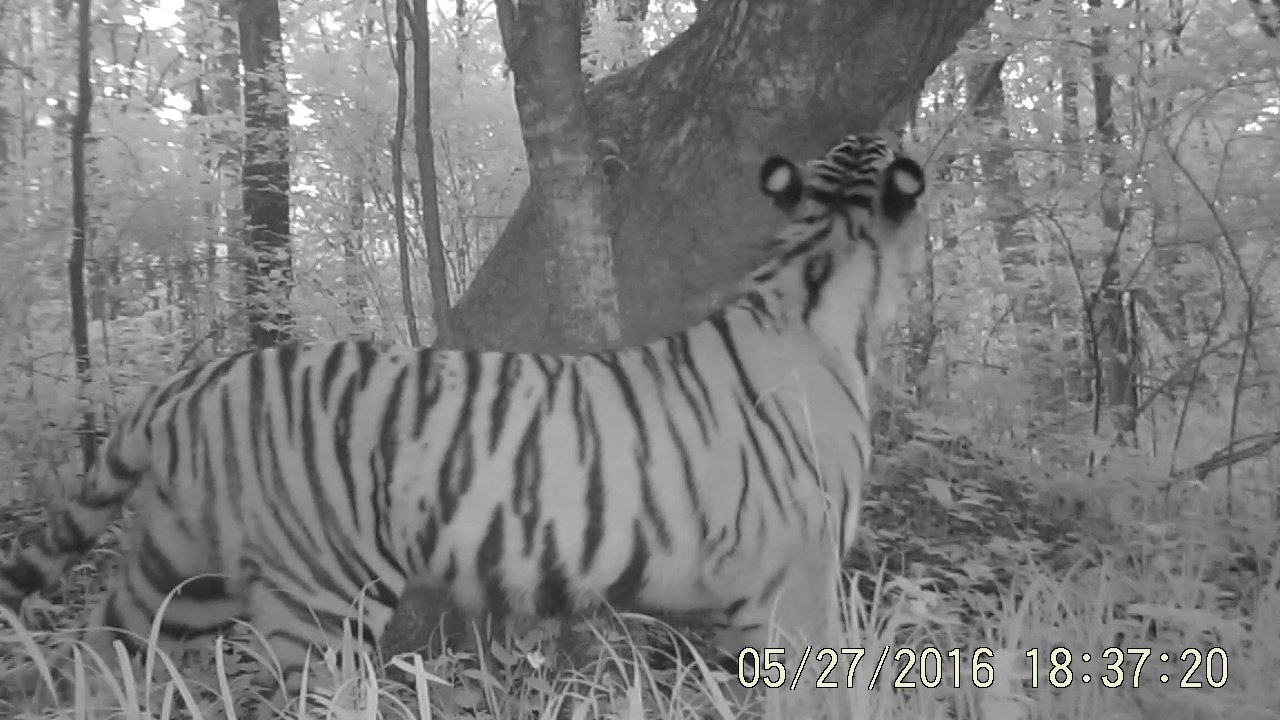Tiger: (1, 103, 950, 720)
